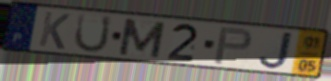2: (166, 23, 199, 63)
J: (256, 30, 295, 71)
K: (36, 10, 73, 52)
M: (116, 17, 168, 60)
P: (212, 26, 254, 66)
U: (72, 12, 114, 54)
